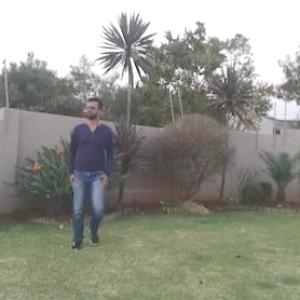follow: (59, 82, 123, 274)
